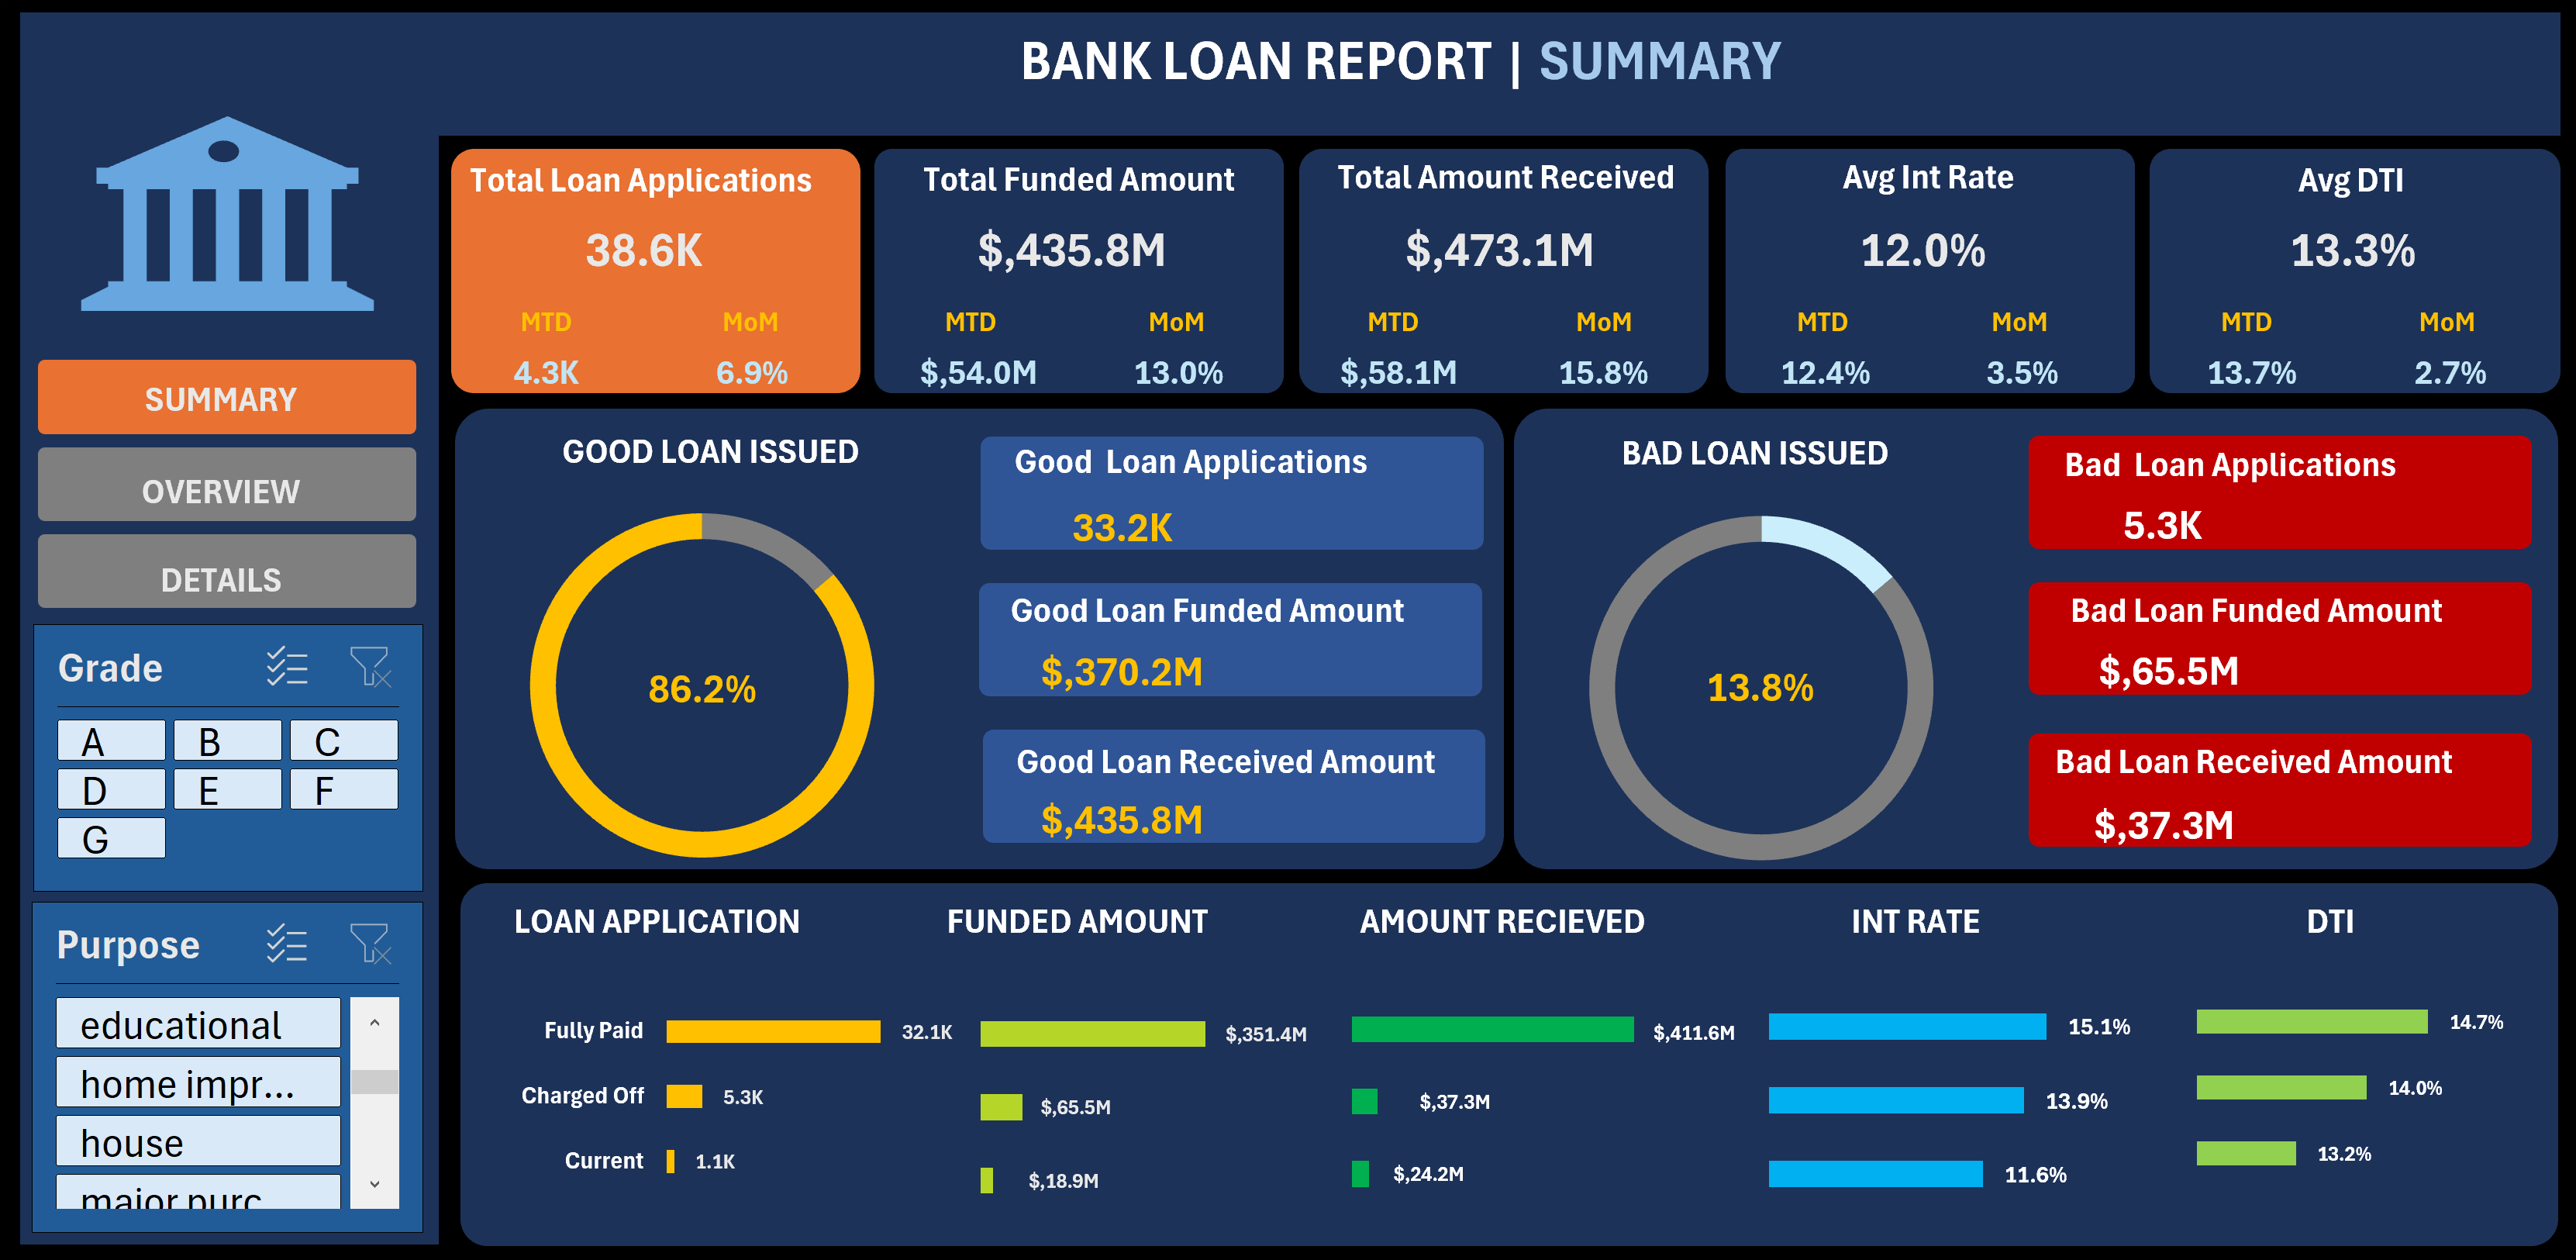

The dashboard page shown, as its layout file describes it:
{"tool":"tableau","page":{"name":"Summary Dashboard","canvas":[1600,900],"ordinal":2},"visuals":[{"type":"image","param":"C:/Users/JOY/Downloads/summary-01.jpg","box":[8,8,1584,884]},{"type":"text","box":[445,24,731,50]},{"type":"text","box":[555,96,188,35]},{"type":"text","box":[280,97,200,34]},{"type":"text","box":[816,97,199,30]},{"type":"text","box":[1091,97,185,30]},{"type":"text","box":[1386,97,109,30]},{"type":"worksheet","title":"Avg Interest Rate","mark":"Automatic","box":[1139,136,88,40]},{"type":"worksheet","title":"Total Amount Received","mark":"Automatic","box":[863,139,95,36]},{"type":"worksheet","title":"Total Funded Amount","mark":"Automatic","box":[600,142,101,34]},{"type":"worksheet","title":"Average DTI","mark":"Automatic","box":[1390,143,109,32]},{"type":"worksheet","title":"Total Loan Applications","mark":"Automatic","box":[338,144,87,33]},{"type":"text","box":[1449,180,110,30]},{"type":"text","box":[1066,181,100,30]},{"type":"text","box":[398,182,90,30]},{"type":"text","box":[535,182,100,30]},{"type":"text","box":[661,182,100,30]},{"type":"text","box":[801,182,100,30]},{"type":"text","box":[927,182,100,30]},{"type":"text","box":[1185,182,112,30]},{"type":"text","box":[1355,183,59,30]},{"type":"text","box":[283,184,83,29]},{"type":"worksheet","title":"MTD Total Amount Received","mark":"Automatic","box":[812,215,87,36]},{"type":"worksheet","title":"MTD Average DTI","mark":"Automatic","box":[1340,215,88,35]},{"type":"worksheet","title":"MTD Total Funded Amount","mark":"Automatic","box":[543,217,87,34]},{"type":"worksheet","title":"MoM Total Amount Received","mark":"Automatic","box":[938,217,82,35]},{"type":"worksheet","title":"MoM Total Funded Amount","mark":"Automatic","box":[672,218,82,33]},{"type":"worksheet","title":"MoM Average Interest Rate","mark":"Automatic","box":[1191,218,99,34]},{"type":"worksheet","title":"MoM Average DTI","mark":"Automatic","box":[1471,218,76,34]},{"type":"worksheet","title":"MTD Total Loan Applications","mark":"Automatic","box":[288,219,75,32]},{"type":"worksheet","title":"MoM Total Loan Applications","mark":"Automatic","box":[401,220,92,32]},{"type":"worksheet","title":"MTD Avg Interest Rate","mark":"Automatic","box":[1080,220,79,31]},{"type":"dashboard-object","box":[51,237,176,51]},{"type":"worksheet","title":"Good Loan Vs Bad Loan Copy","mark":"Pie","rows":["Calculation_0282077807128601","Calculation_0282077807128601"],"box":[921,273,279,343]},{"type":"worksheet","title":"Good VS Bad Loan","mark":"Pie","rows":["Calculation_0282077807128601","Calculation_0282077807128601"],"box":[263,277,279,340]},{"type":"worksheet","title":"Good Loan Applications","mark":"Automatic","box":[570,280,334,78]},{"type":"worksheet","title":"Bad Loan Applications","mark":"Automatic","box":[1233,281,312,74]},{"type":"dashboard-object","box":[50,311,174,51]},{"type":"worksheet","title":"Bad Loan Funded Amount","mark":"Automatic","box":[1234,380,308,76]},{"type":"worksheet","title":"Good Loan Funded Amount","mark":"Automatic","box":[570,382,337,73]},{"type":"dashboard-object","box":[51,384,173,52]},{"type":"worksheet","title":"% Bad Loan Applications ","mark":"Automatic","box":[996,412,131,106]},{"type":"worksheet","title":"% Good Loan Applications","mark":"Automatic","box":[333,419,141,94]},{"type":"worksheet","title":"Good Loan Total Received Amount","mark":"Automatic","box":[571,478,333,73]},{"type":"worksheet","title":"Bad Loan Total Received Amount ","mark":"Automatic","box":[1234,478,313,80]},{"type":"filter","title":"Good VS Bad Loan","param":"[federated.02bapp10spx5te19axciv0uohof1].[none:purpose:nk]","box":[50,590,176,52]},{"type":"worksheet","title":"Loan Staus App","mark":"Automatic","rows":["loan_status"],"box":[263,623,1305,256]},{"type":"filter","title":"Good VS Bad Loan","param":"[federated.02bapp10spx5te19axciv0uohof1].[none:verification_status:nk]","box":[51,663,174,140]},{"type":"filter","title":"Good VS Bad Loan","param":"[federated.02bapp10spx5te19axciv0uohof1].[none:grade:nk]","box":[51,737,175,52]}]}

Visuals, with their boxes on the page's 1600x900 design canvas (x1, y1, x2, y2). These are canvas units, not pixel positions in the 2576x1260 screenshot, which may show the page scaled, cropped or inside an application window:
image: bbox=(8, 8, 1592, 892)
text: bbox=(445, 24, 1176, 74)
text: bbox=(555, 96, 743, 131)
text: bbox=(280, 97, 480, 131)
text: bbox=(816, 97, 1015, 127)
text: bbox=(1091, 97, 1276, 127)
text: bbox=(1386, 97, 1495, 127)
"Avg Interest Rate" worksheet: bbox=(1139, 136, 1227, 176)
"Total Amount Received" worksheet: bbox=(863, 139, 958, 175)
"Total Funded Amount" worksheet: bbox=(600, 142, 701, 176)
"Average DTI" worksheet: bbox=(1390, 143, 1499, 175)
"Total Loan Applications" worksheet: bbox=(338, 144, 425, 177)
text: bbox=(1449, 180, 1559, 210)
text: bbox=(1066, 181, 1166, 211)
text: bbox=(398, 182, 488, 212)
text: bbox=(535, 182, 635, 212)
text: bbox=(661, 182, 761, 212)
text: bbox=(801, 182, 901, 212)
text: bbox=(927, 182, 1027, 212)
text: bbox=(1185, 182, 1297, 212)
text: bbox=(1355, 183, 1414, 213)
text: bbox=(283, 184, 366, 213)
"MTD Total Amount Received" worksheet: bbox=(812, 215, 899, 251)
"MTD Average DTI" worksheet: bbox=(1340, 215, 1428, 250)
"MTD Total Funded Amount" worksheet: bbox=(543, 217, 630, 251)
"MoM Total Amount Received" worksheet: bbox=(938, 217, 1020, 252)
"MoM Total Funded Amount" worksheet: bbox=(672, 218, 754, 251)
"MoM Average Interest Rate" worksheet: bbox=(1191, 218, 1290, 252)
"MoM Average DTI" worksheet: bbox=(1471, 218, 1547, 252)
"MTD Total Loan Applications" worksheet: bbox=(288, 219, 363, 251)
"MoM Total Loan Applications" worksheet: bbox=(401, 220, 493, 252)
"MTD Avg Interest Rate" worksheet: bbox=(1080, 220, 1159, 251)
dashboard-object: bbox=(51, 237, 227, 288)
"Good Loan Vs Bad Loan Copy" worksheet (Pie marks): bbox=(921, 273, 1200, 616)
"Good VS Bad Loan" worksheet (Pie marks): bbox=(263, 277, 542, 617)
"Good Loan Applications" worksheet: bbox=(570, 280, 904, 358)
"Bad Loan Applications" worksheet: bbox=(1233, 281, 1545, 355)
dashboard-object: bbox=(50, 311, 224, 362)
"Bad Loan Funded Amount" worksheet: bbox=(1234, 380, 1542, 456)
"Good Loan Funded Amount" worksheet: bbox=(570, 382, 907, 455)
dashboard-object: bbox=(51, 384, 224, 436)
"% Bad Loan Applications " worksheet: bbox=(996, 412, 1127, 518)
"% Good Loan Applications" worksheet: bbox=(333, 419, 474, 513)
"Good Loan Total Received Amount" worksheet: bbox=(571, 478, 904, 551)
"Bad Loan Total Received Amount " worksheet: bbox=(1234, 478, 1547, 558)
"Good VS Bad Loan" filter: bbox=(50, 590, 226, 642)
"Loan Staus App" worksheet: bbox=(263, 623, 1568, 879)
"Good VS Bad Loan" filter: bbox=(51, 663, 225, 803)
"Good VS Bad Loan" filter: bbox=(51, 737, 226, 789)
